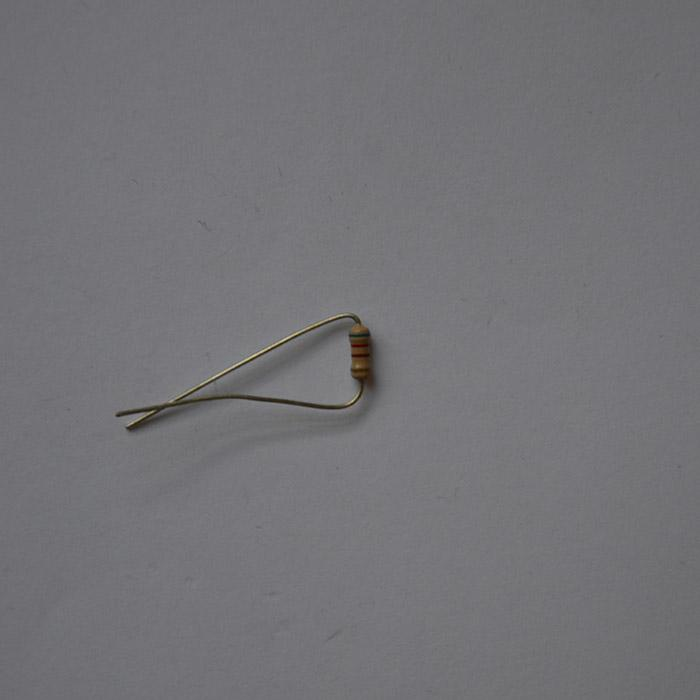resistor: (347, 323, 371, 379)
